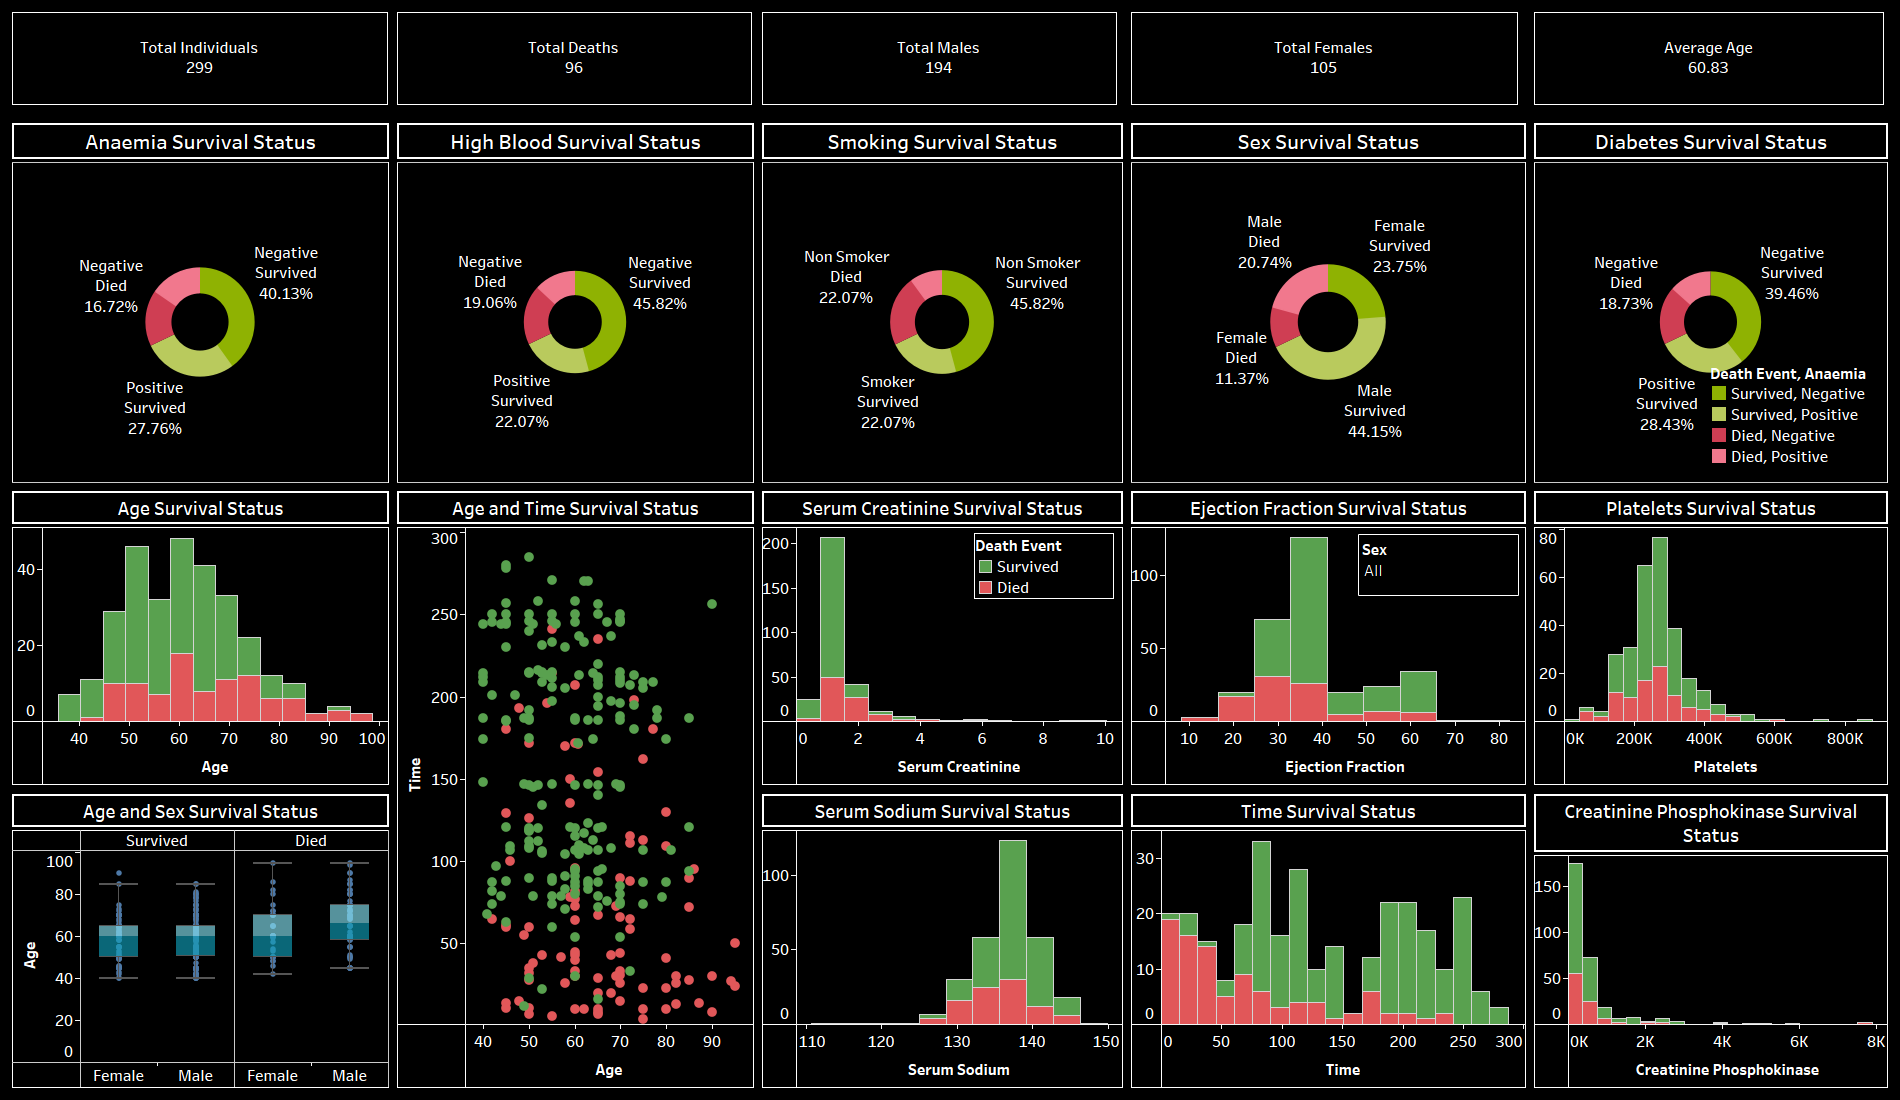

Layout of this report page (visuals, bound fields, positions):
{"tool":"tableau","page":{"name":"Interactive Health Survival Dashboard","canvas":[1900,1100],"ordinal":0},"visuals":[{"type":"worksheet","title":"Total Individuals","mark":"Automatic","box":[8,8,384.7,111.2]},{"type":"worksheet","title":"Total Deaths","mark":"Automatic","box":[392.7,8,365.3,111.2]},{"type":"worksheet","title":"Total Males","mark":"Automatic","box":[758,8,369,111.2]},{"type":"worksheet","title":"Total Females","mark":"Automatic","box":[1127,8,403,111.2]},{"type":"worksheet","title":"Average Age","mark":"Automatic","box":[1530,8,362,111.2]},{"type":"worksheet","title":"Anaemia Survival Status","mark":"Pie","rows":["Calculation_2019301492426416129","Calculation_2019301492426416129"],"box":[8,119.2,384.7,368]},{"type":"worksheet","title":"High Blood Survival Status","mark":"Pie","rows":["Calculation_2019301492426416129","Calculation_2019301492426416129"],"box":[392.7,119.2,365.3,368]},{"type":"worksheet","title":"Smoking Survival Status","mark":"Pie","rows":["Calculation_2019301492426416129","Calculation_2019301492426416129"],"box":[758,119.2,369,368]},{"type":"worksheet","title":"Sex Survival Status","mark":"Pie","rows":["Calculation_2019301492426416129","Calculation_2019301492426416129"],"box":[1127,119.2,403,368]},{"type":"worksheet","title":"Diabetes Survival Status","mark":"Pie","rows":["Calculation_2019301492426416129","Calculation_2019301492426416129"],"box":[1530,119.2,362,368]},{"type":"legend","title":"Anaemia Survival Status","param":"[federated.0sev43814jqbhy17a44pr0ukswzi].[none:DEATH_EVENT:ok]\n[federated.0sev43","box":[1709,361,161,117]},{"type":"worksheet","title":"Age Survival Status","mark":"Automatic","rows":["age"],"cols":["Age (bin)"],"box":[8,487.2,385,302.4]},{"type":"worksheet","title":"Age and Time Survival Status","mark":"Automatic","rows":["time"],"cols":["age"],"box":[393,487.2,365,604.8]},{"type":"worksheet","title":"Serum Creatinine Survival Status","mark":"Automatic","rows":["serum_creatinine"],"cols":["Serum Creatinine (bin)"],"box":[758,487.2,369,302.4]},{"type":"worksheet","title":"Ejection Fraction Survival Status ","mark":"Automatic","rows":["ejection_fraction"],"cols":["Ejection Fraction (bin)"],"box":[1127,487.2,403,302.4]},{"type":"worksheet","title":"Platelets Survival Status","mark":"Automatic","rows":["platelets"],"cols":["Platelets (bin)"],"box":[1530,487.2,362,302.4]},{"type":"legend","title":"Age Survival Status","param":"[federated.0sev43814jqbhy17a44pr0ukswzi].[none:DEATH_EVENT:ok]","box":[974,533,140,70]},{"type":"filter","title":"Age and Sex Survival Status","param":"[federated.0sev43814jqbhy17a44pr0ukswzi].[none:sex:ok]","box":[1358,534,161,62]},{"type":"worksheet","title":"Age and Sex Survival Status","mark":"Circle","rows":["age"],"cols":["DEATH_EVENT","sex"],"box":[8,789.6,385,302.4]},{"type":"worksheet","title":"Serum Sodium Survival Status ","mark":"Automatic","rows":["serum_sodium"],"cols":["Serum Sodium (bin)"],"box":[758,789.6,369,302.4]},{"type":"worksheet","title":"Time Survival Status","mark":"Automatic","rows":["time"],"cols":["Time (bin)"],"box":[1127,789.6,403,302.4]},{"type":"worksheet","title":"Creatinine Phosphokinase Survival Status","mark":"Automatic","rows":["creatinine_phosphokinase"],"cols":["Creatinine Phosphokinase (bin)"],"box":[1530,789.6,362,302.4]}]}

Visuals, with their boxes in screenshot pixels (x1, y1, x2, y2), scaled from the page's 1900x1100 canvas onto the 1900x1100 screenshot:
"Total Individuals" worksheet: pyautogui.locateOnScreen(8, 8, 393, 119)
"Total Deaths" worksheet: pyautogui.locateOnScreen(393, 8, 758, 119)
"Total Males" worksheet: pyautogui.locateOnScreen(758, 8, 1127, 119)
"Total Females" worksheet: pyautogui.locateOnScreen(1127, 8, 1530, 119)
"Average Age" worksheet: pyautogui.locateOnScreen(1530, 8, 1892, 119)
"Anaemia Survival Status" worksheet (Pie marks): pyautogui.locateOnScreen(8, 119, 393, 487)
"High Blood Survival Status" worksheet (Pie marks): pyautogui.locateOnScreen(393, 119, 758, 487)
"Smoking Survival Status" worksheet (Pie marks): pyautogui.locateOnScreen(758, 119, 1127, 487)
"Sex Survival Status" worksheet (Pie marks): pyautogui.locateOnScreen(1127, 119, 1530, 487)
"Diabetes Survival Status" worksheet (Pie marks): pyautogui.locateOnScreen(1530, 119, 1892, 487)
"Anaemia Survival Status" legend: pyautogui.locateOnScreen(1709, 361, 1870, 478)
"Age Survival Status" worksheet: pyautogui.locateOnScreen(8, 487, 393, 790)
"Age and Time Survival Status" worksheet: pyautogui.locateOnScreen(393, 487, 758, 1092)
"Serum Creatinine Survival Status" worksheet: pyautogui.locateOnScreen(758, 487, 1127, 790)
"Ejection Fraction Survival Status " worksheet: pyautogui.locateOnScreen(1127, 487, 1530, 790)
"Platelets Survival Status" worksheet: pyautogui.locateOnScreen(1530, 487, 1892, 790)
"Age Survival Status" legend: pyautogui.locateOnScreen(974, 533, 1114, 603)
"Age and Sex Survival Status" filter: pyautogui.locateOnScreen(1358, 534, 1519, 596)
"Age and Sex Survival Status" worksheet (Circle marks): pyautogui.locateOnScreen(8, 790, 393, 1092)
"Serum Sodium Survival Status " worksheet: pyautogui.locateOnScreen(758, 790, 1127, 1092)
"Time Survival Status" worksheet: pyautogui.locateOnScreen(1127, 790, 1530, 1092)
"Creatinine Phosphokinase Survival Status" worksheet: pyautogui.locateOnScreen(1530, 790, 1892, 1092)
